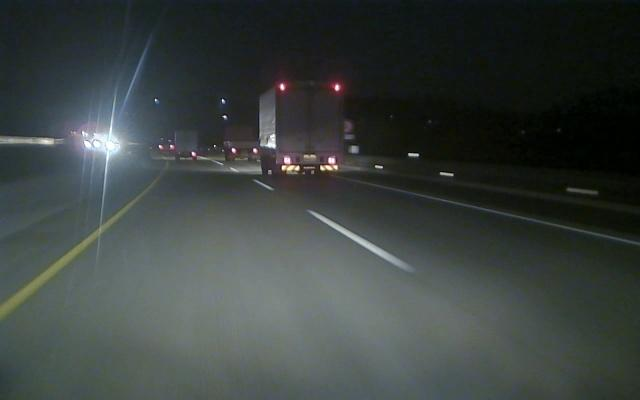lane: (1, 175, 161, 320), (371, 184, 637, 246), (258, 182, 419, 271)
